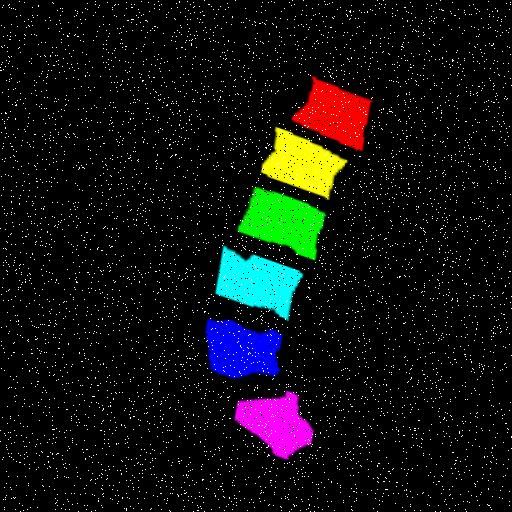L1: (289, 71, 369, 144)
L2: (257, 122, 342, 192)
L3: (233, 184, 320, 255)
L4: (209, 244, 294, 315)
L5: (200, 315, 275, 375)
S1: (225, 386, 304, 455)
